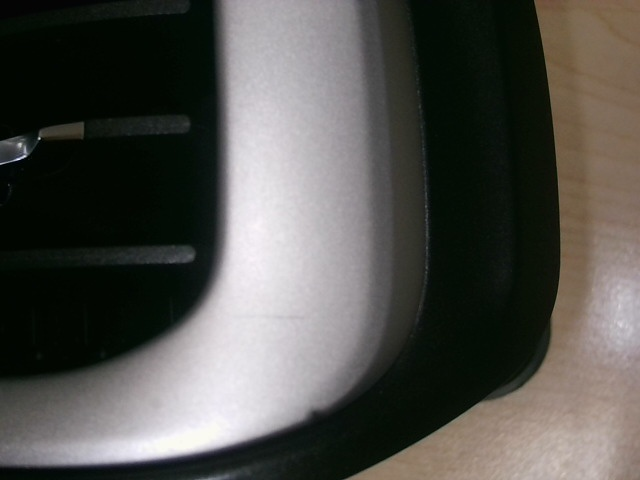NG: (219, 287, 370, 355)
